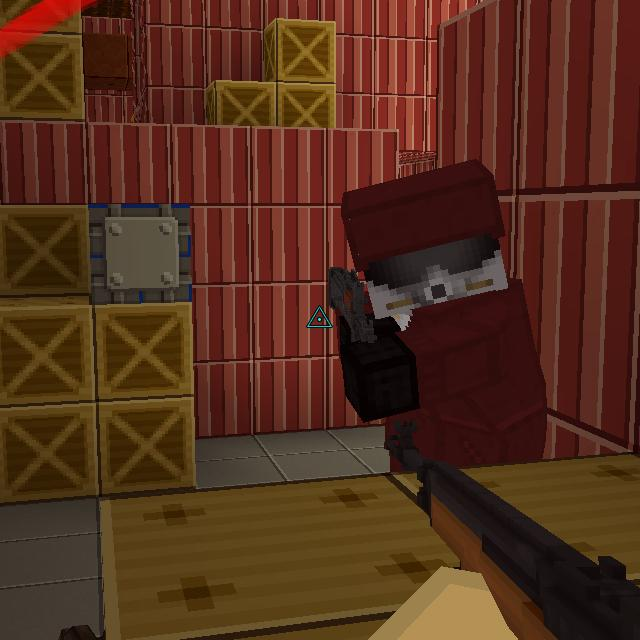enemy: (331, 140, 554, 474)
